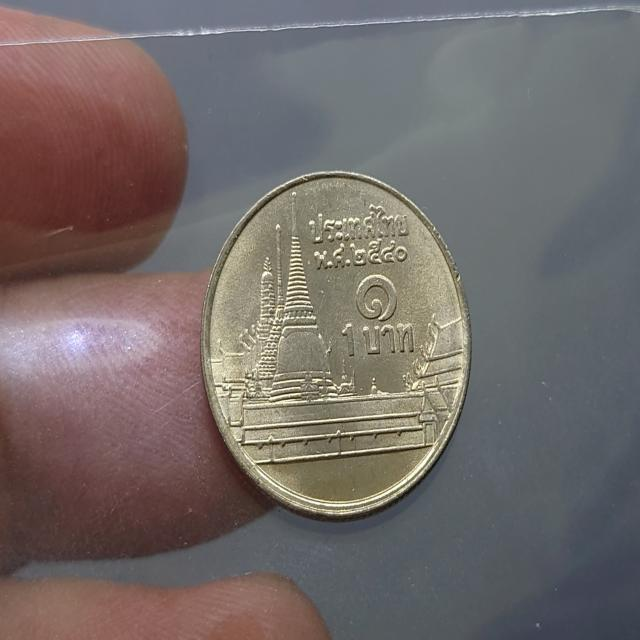1 Bath: (190, 162, 480, 536)
